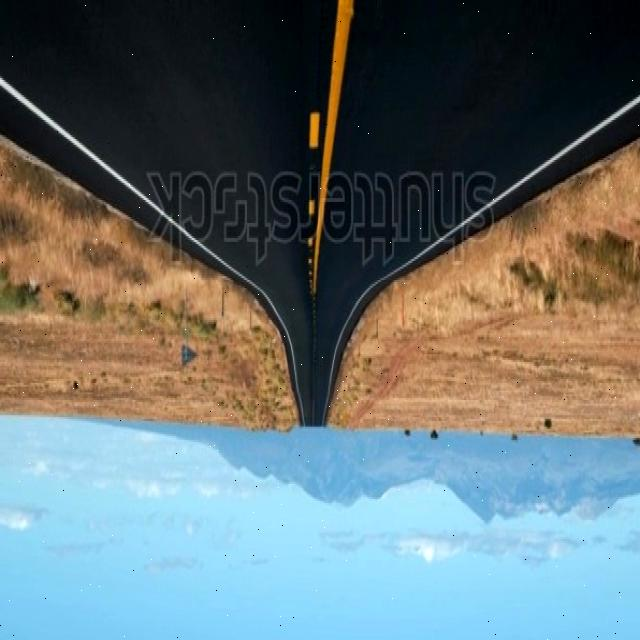lane: (314, 2, 354, 301), (314, 2, 354, 299)
road: (1, 4, 640, 427)
